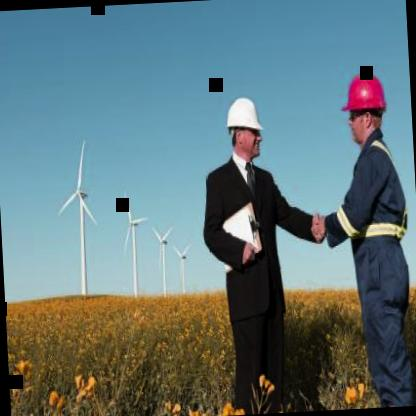helmet: (340, 65, 390, 149), (223, 91, 266, 166)
